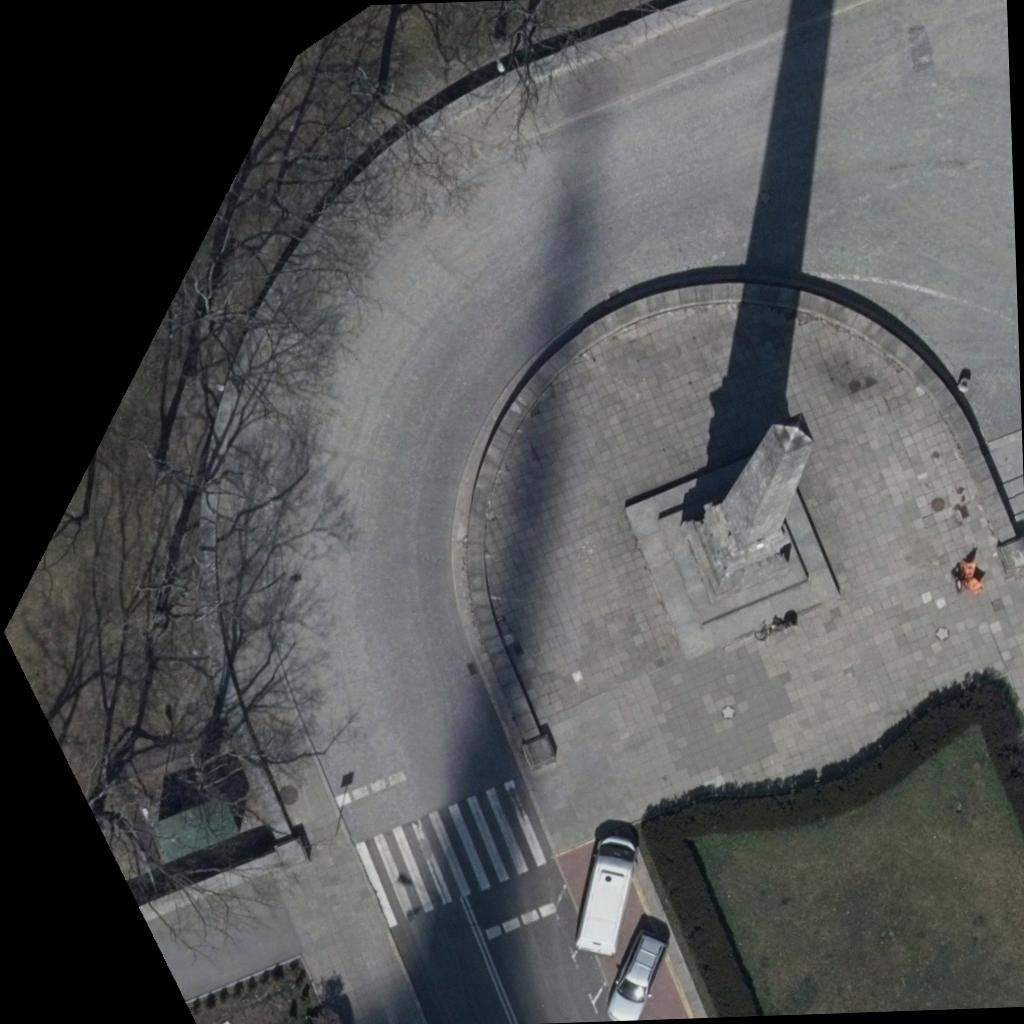samochod_osobowy: (571, 832, 639, 954), (606, 930, 670, 1020)
